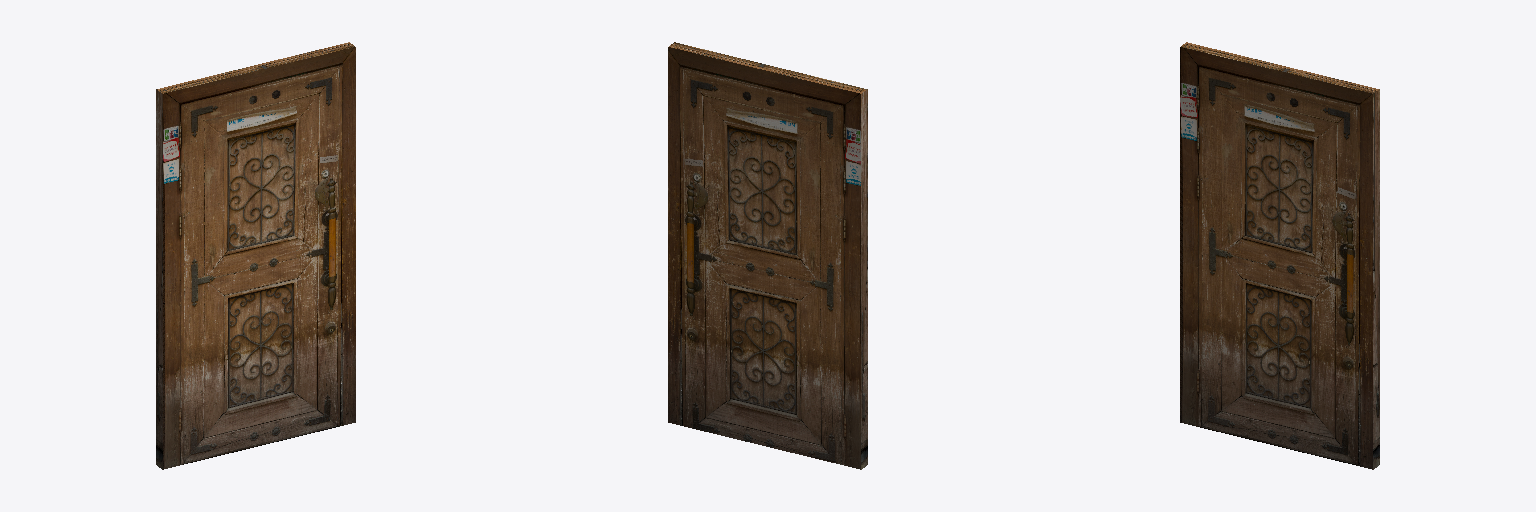
3 renders of one model, left to right at view 1: azimuth 30°, elevation 25°; view 2: azimuth 150°, elevation 25°; view 3: azimuth 330°, elevation 25°, orthographic.
Visible parts, largest first — view 1: pCube21; view 2: pCube21; view 3: pCube21.
Part boxes in pixels (bbox=[...]): pCube21: bbox=[156, 42, 355, 469]; pCube21: bbox=[668, 42, 867, 469]; pCube21: bbox=[1180, 42, 1379, 469].
Bounding box in the file's own units: 0.5413 × 1.01 × 0.0303.
Materials: 1 (1 with a texture image).